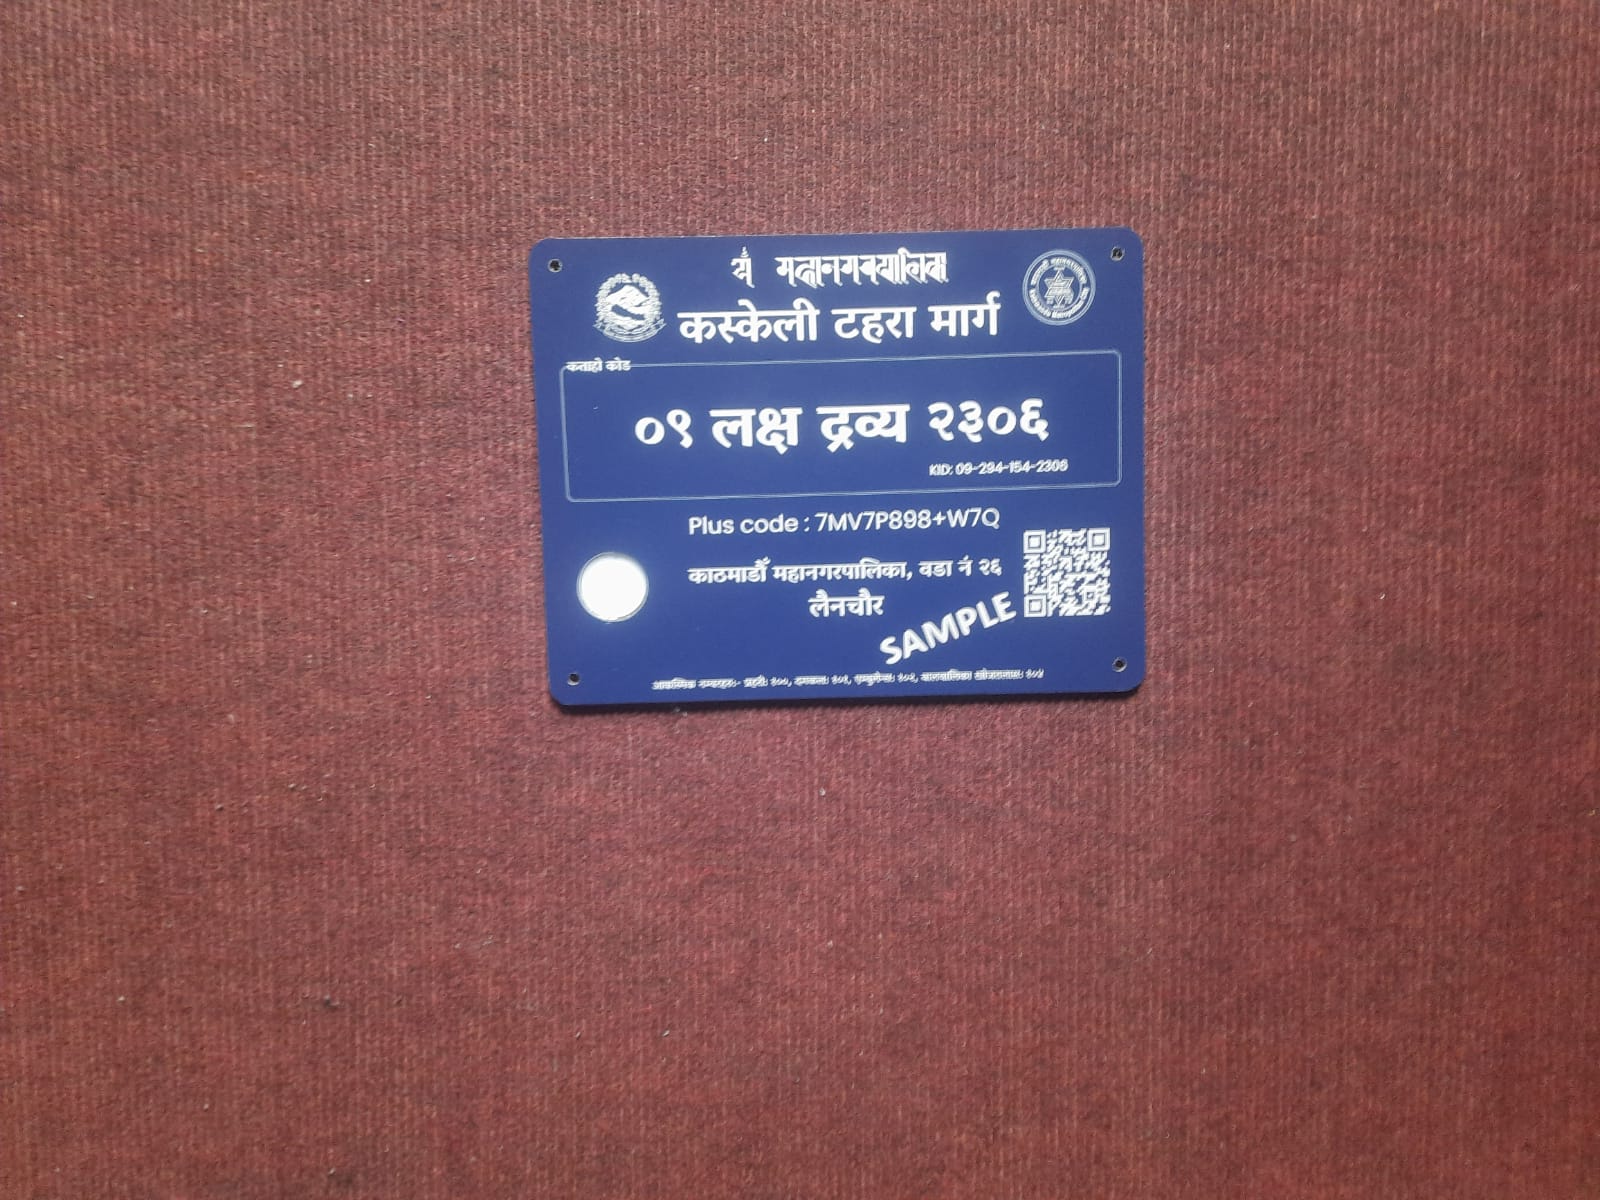Plate: (522, 220, 1150, 712)
